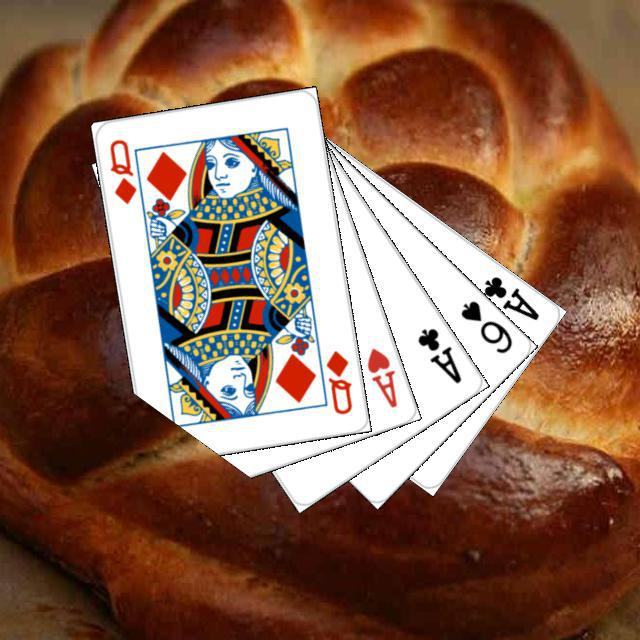6s: (455, 295, 514, 356)
Ac: (478, 271, 541, 323), (412, 323, 464, 386)
Ah: (361, 343, 399, 410)
Qd: (104, 134, 139, 206), (321, 346, 354, 416)
